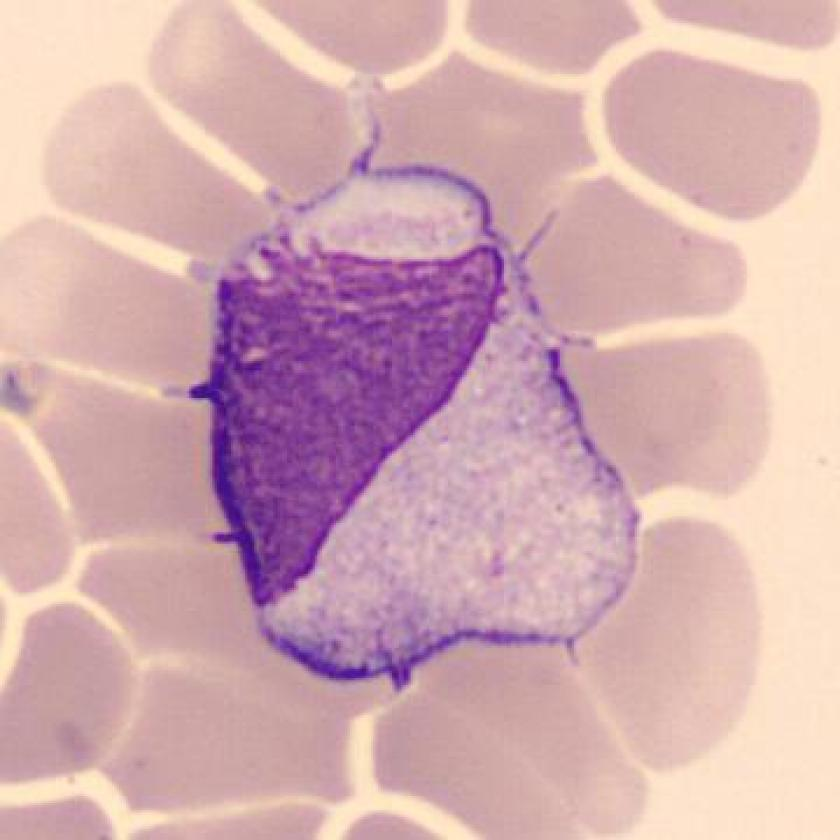monocyte: (174, 133, 661, 711)
